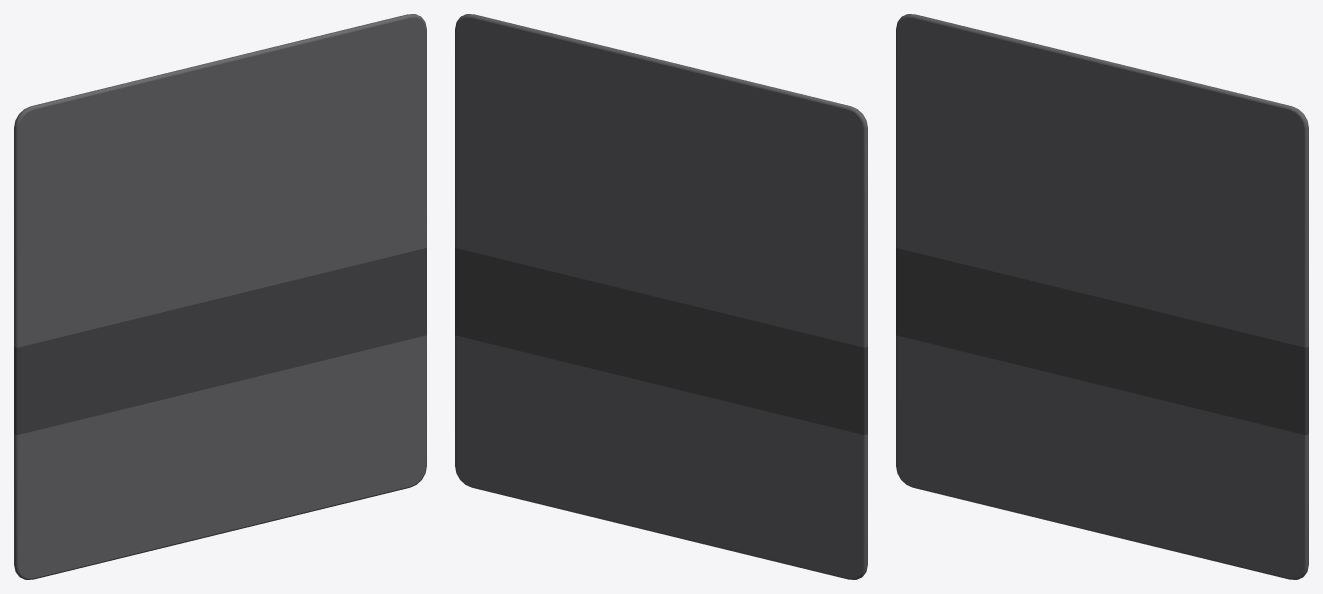
Rendered from menu_title_bg.glb.
3 views of the same model, side by side, from view 1: azimuth 30°, elevation 25°; view 2: azimuth 150°, elevation 25°; view 3: azimuth 330°, elevation 25° (orthographic).
Parts seen in each view (by area): view 1: menu_card_bg; view 2: menu_card_bg; view 3: menu_card_bg.
Part boxes in pixels (x1=…): menu_card_bg: x1=14, y1=14, x2=426, y2=579; menu_card_bg: x1=455, y1=14, x2=867, y2=579; menu_card_bg: x1=896, y1=14, x2=1308, y2=579.
Size of the model in its own units: 3 by 3.3 by 0.04.
1 material, 1 textured.
